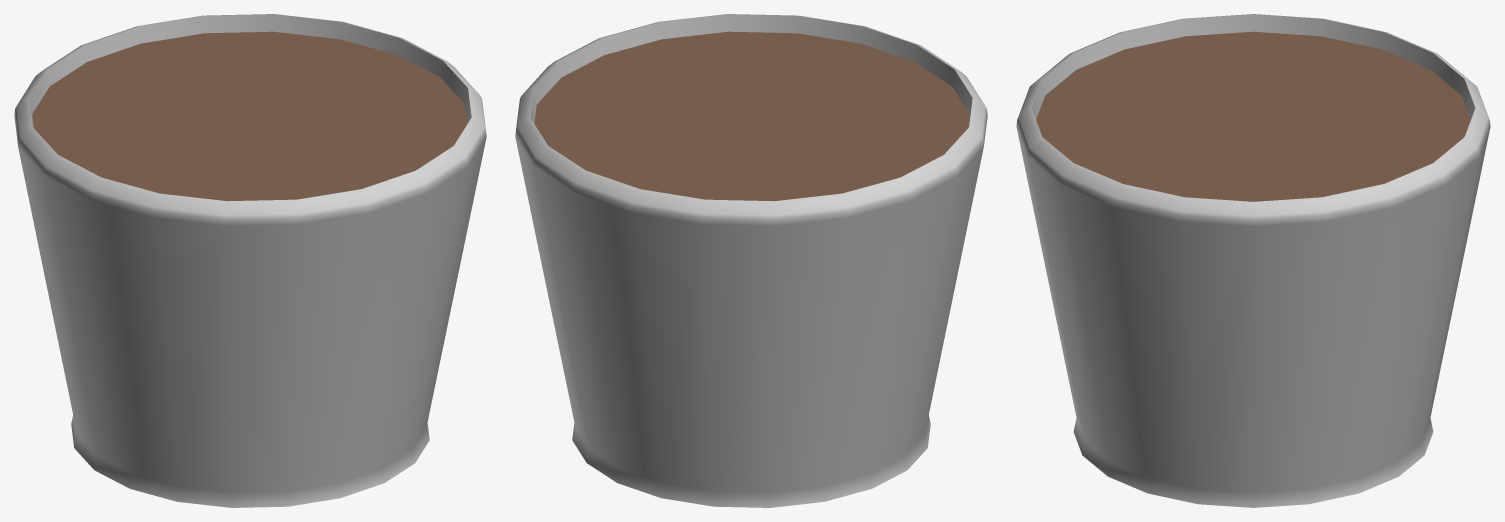
File: PlantPotWhite.fbx
3 renders of one model, left to right at view 1: azimuth 30°, elevation 25°; view 2: azimuth 150°, elevation 25°; view 3: azimuth 270°, elevation 25°, orthographic.
Visible parts, largest first — view 1: pCylinder34; view 2: pCylinder34; view 3: pCylinder34.
Part boxes in pixels (<box>): pCylinder34: <box>14,14,486,507</box>; pCylinder34: <box>515,14,987,507</box>; pCylinder34: <box>1016,14,1490,507</box>.
Bounding box in the file's own units: 0.8286 × 0.6245 × 0.8286.
